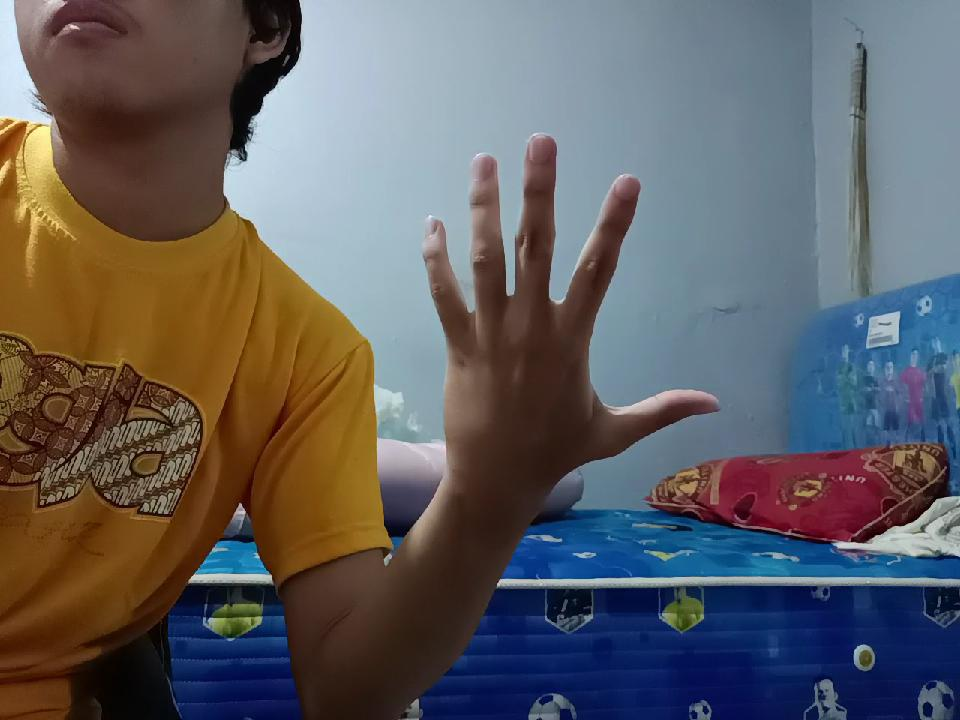paper: (419, 142, 678, 494)
